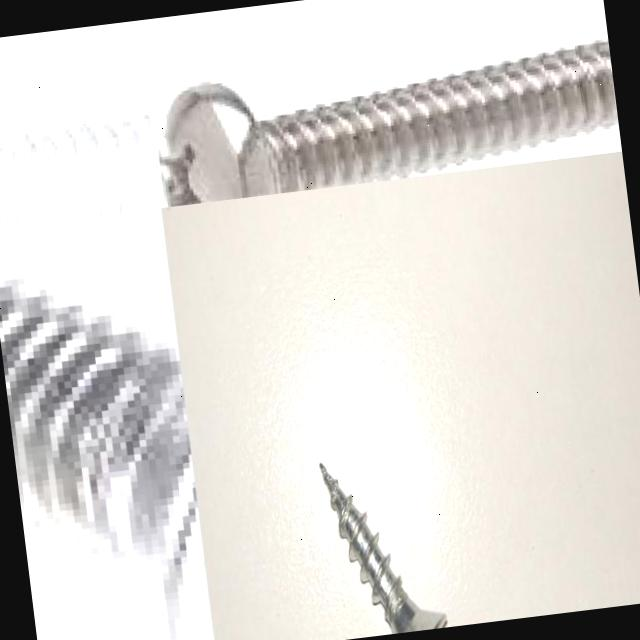Screw: (0, 261, 214, 640), (159, 41, 619, 207), (319, 461, 446, 634), (0, 110, 161, 227)
